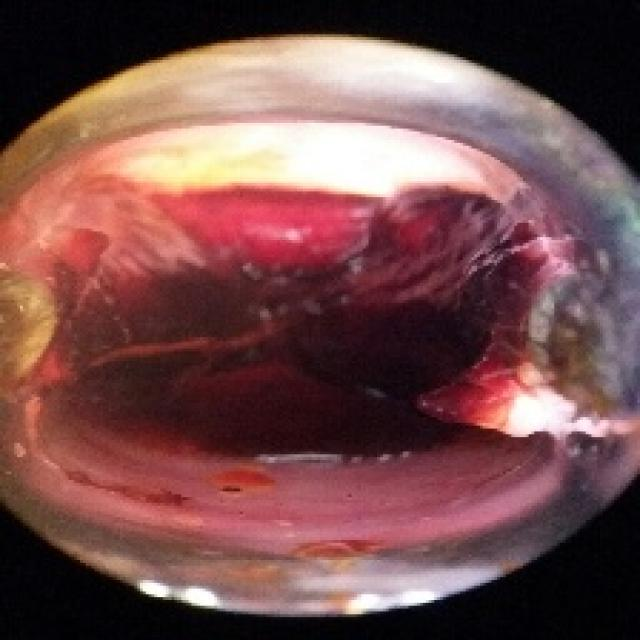type-3: (0, 50, 609, 571)
